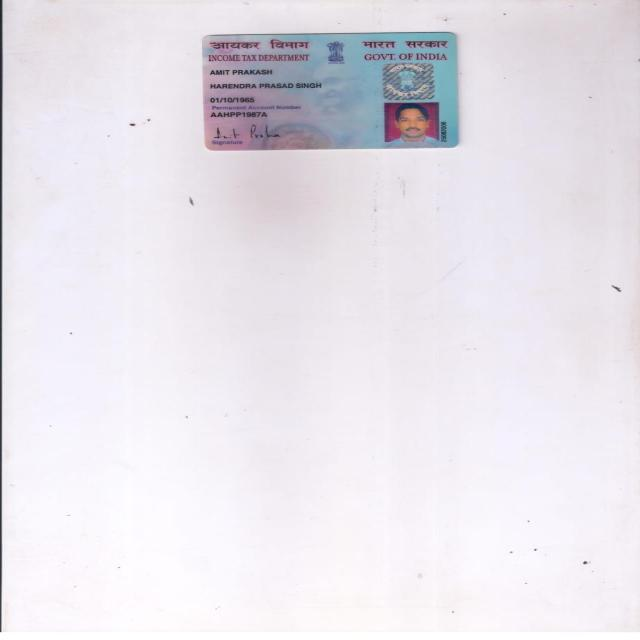pan_card: (200, 33, 460, 152)
